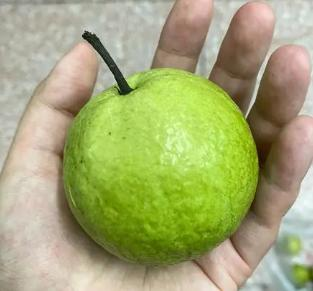guava_A: (62, 66, 260, 269)
